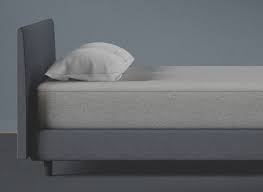bed-matress: (36, 63, 263, 130)
